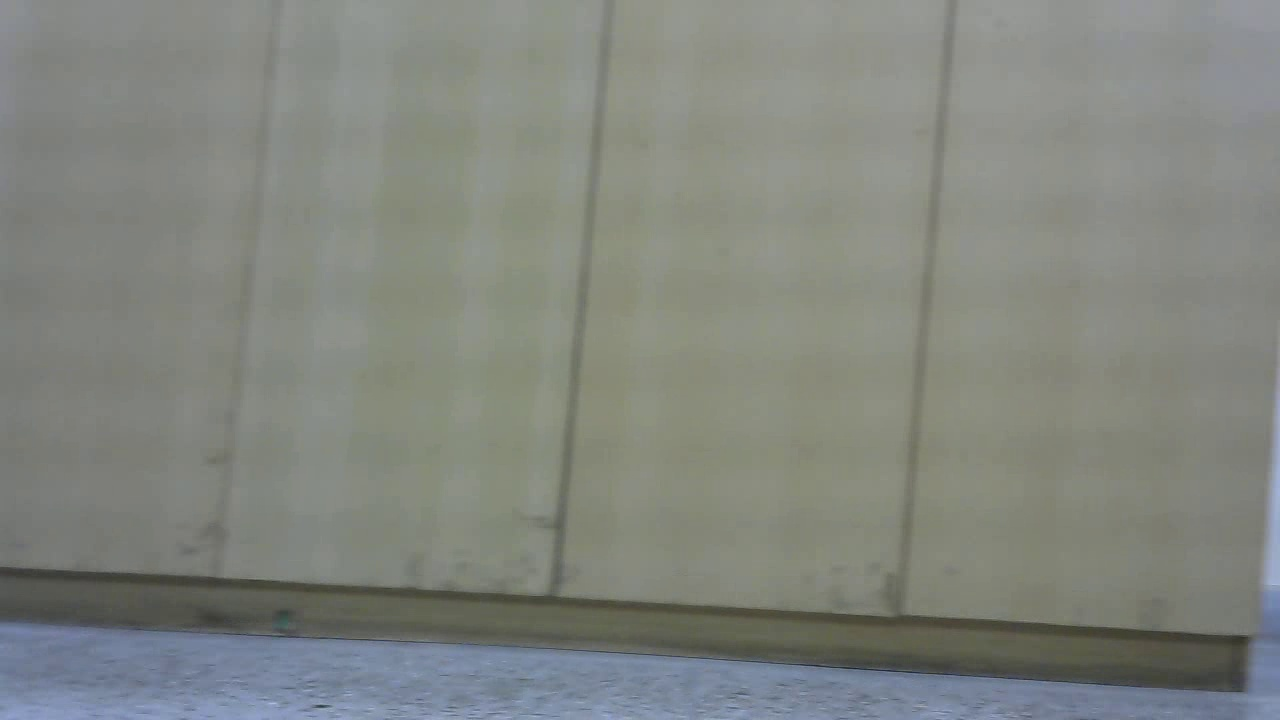chair: (2, 2, 154, 601)
